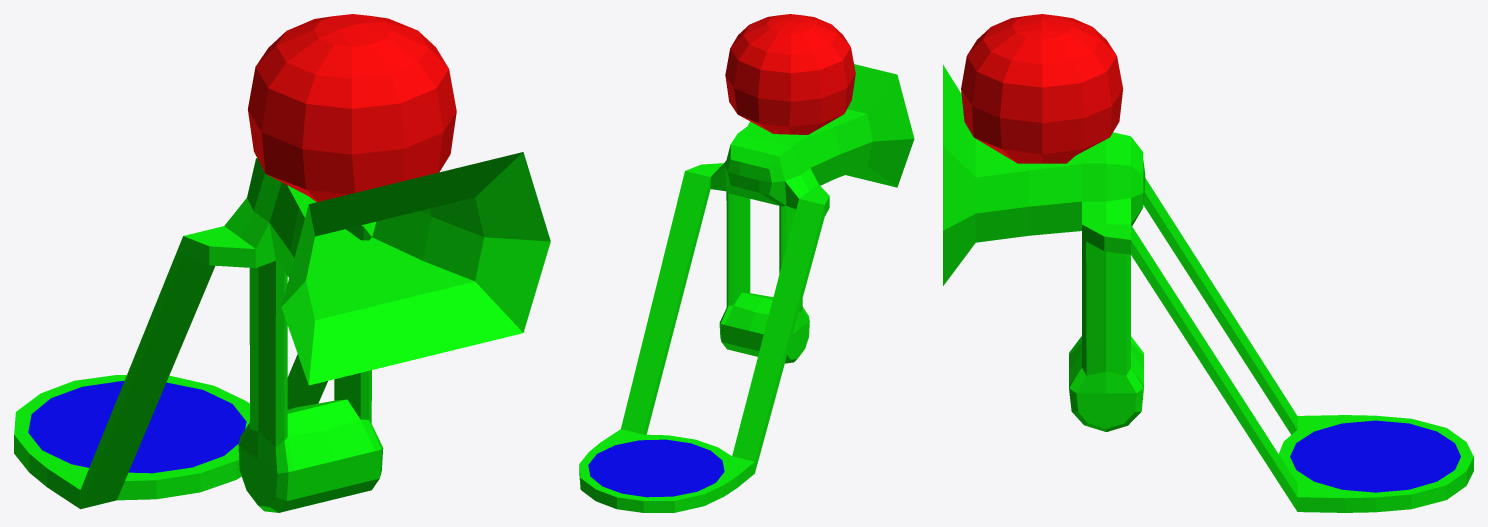
Rendered from Cerebro.glb.
The picture shows the model from 3 angles, left to right: view 1: azimuth 30°, elevation 25°; view 2: azimuth 150°, elevation 25°; view 3: azimuth 270°, elevation 25°; orthographic projection. The views are drawn at different scales.
Visible parts, largest first — view 1: Cerebro; view 2: Cerebro; view 3: Cerebro.
Boxes of the visible parts, x1=… form: Cerebro: x1=14, y1=14, x2=550, y2=512; Cerebro: x1=579, y1=14, x2=914, y2=512; Cerebro: x1=943, y1=14, x2=1473, y2=512.
Bounding box in the file's own units: 0.5911 × 1.21 × 1.3.
